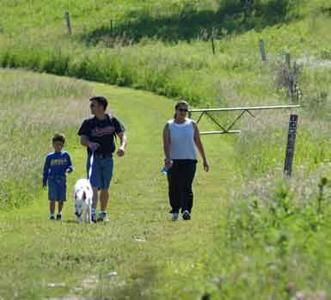person: (79, 98, 128, 222)
